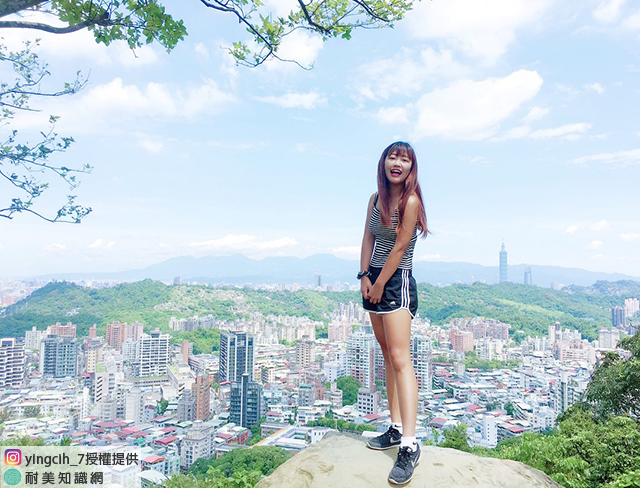people: (367, 138, 423, 485)
